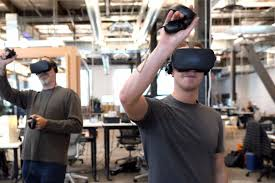oculus: (170, 47, 217, 73), (28, 61, 53, 74)
